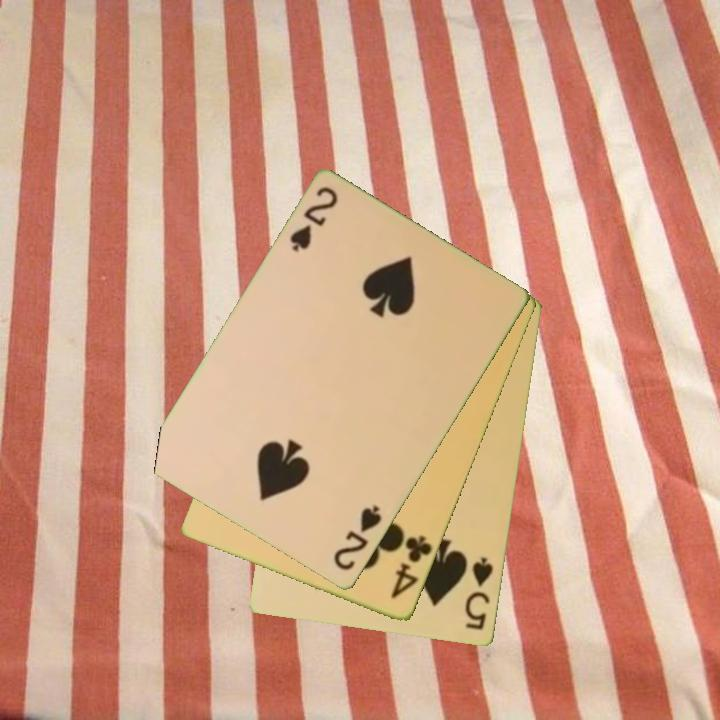2s: (286, 183, 341, 256), (330, 502, 385, 574)
4c: (387, 532, 436, 602)
5s: (461, 554, 497, 634)
